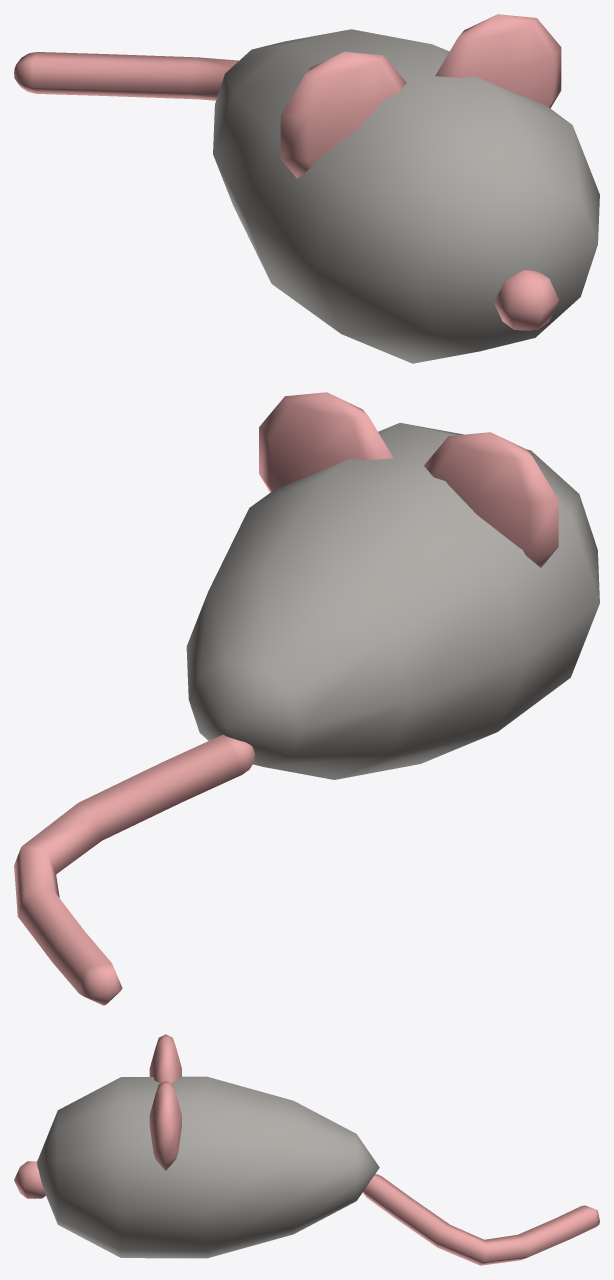
File: petroom_toy_mouse.glb
3 renders of one model, top to bottom at view 1: azimuth 30°, elevation 25°; view 2: azimuth 150°, elevation 25°; view 3: azimuth 270°, elevation 25°, orthographic. The views are drawn at different scales.
Parts seen in each view (by area): view 1: petroom_toy_mouse_mesh; view 2: petroom_toy_mouse_mesh; view 3: petroom_toy_mouse_mesh.
Boxes of the visible parts, bbox=[...] form: petroom_toy_mouse_mesh: bbox=[14, 14, 599, 363]; petroom_toy_mouse_mesh: bbox=[14, 392, 599, 1005]; petroom_toy_mouse_mesh: bbox=[14, 1034, 599, 1265].
Bounding box in the file's own units: 0.06 × 0.059 × 0.1698.
